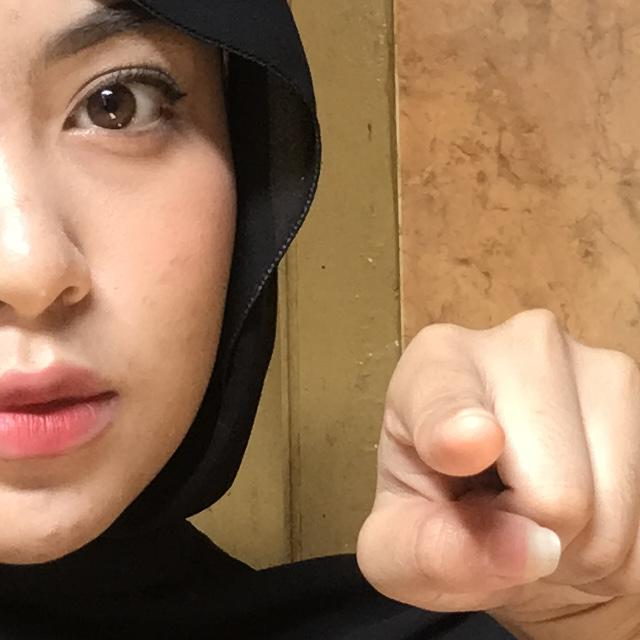kamu: (250, 216, 640, 640)
